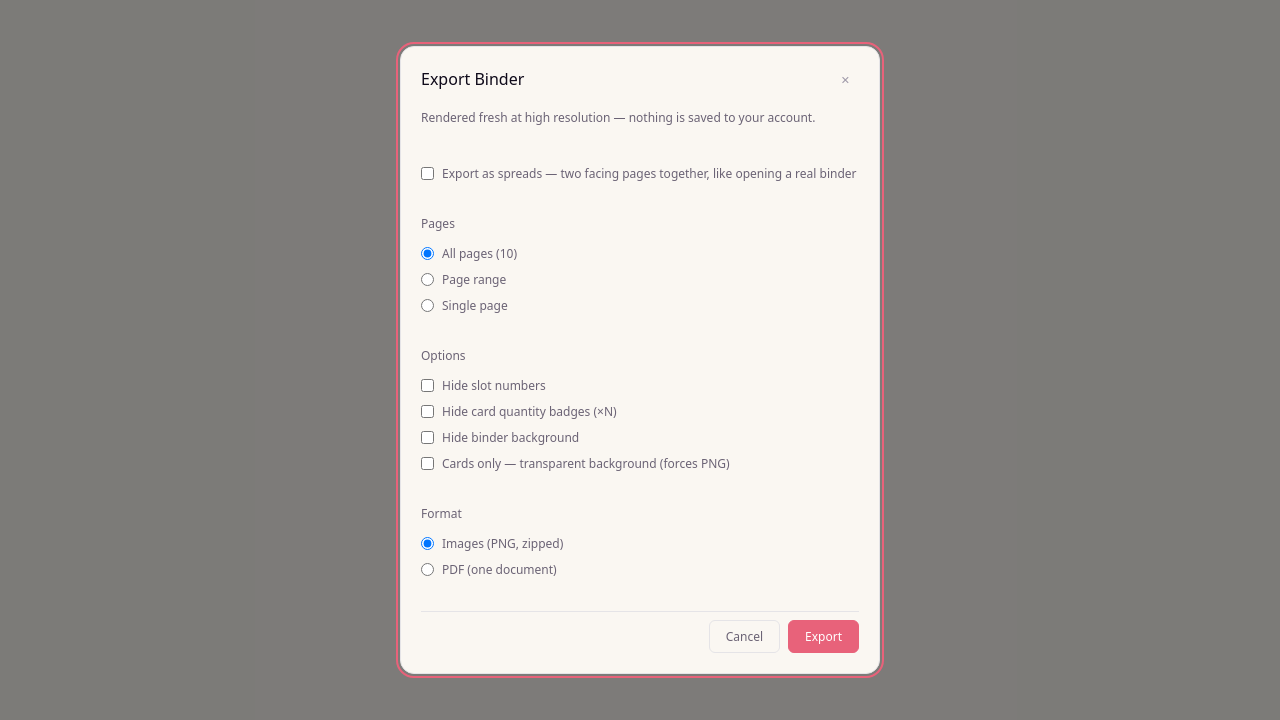
Test case: ExportBinderModal — page range selection › selecting "Page range" reveals from/to inputs
What coordinates should you click on to do the following:
click the text "Page range"
I would click on:
 (464, 279)
Its box is 421,271 -> 506,288.
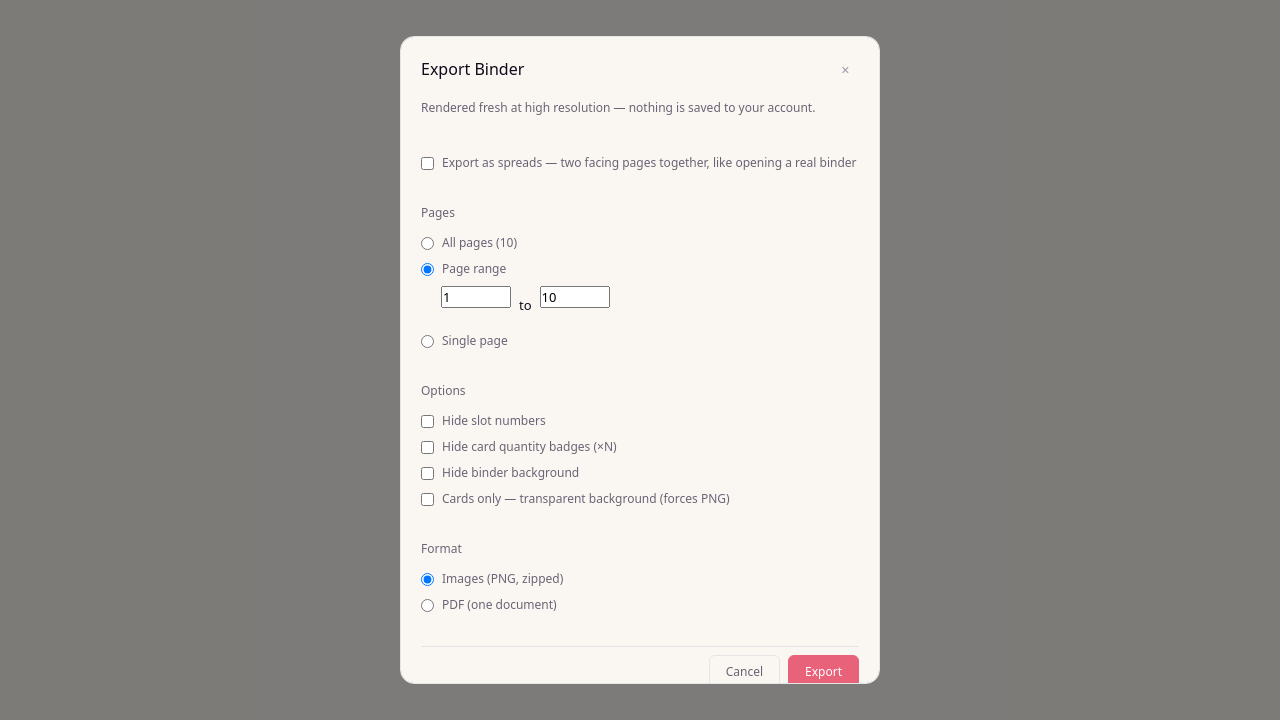
Expected: the number field with id "export-from" is shown, 441,286 -> 511,308
Expected: the number field with id "export-to" is shown, 540,286 -> 610,308
